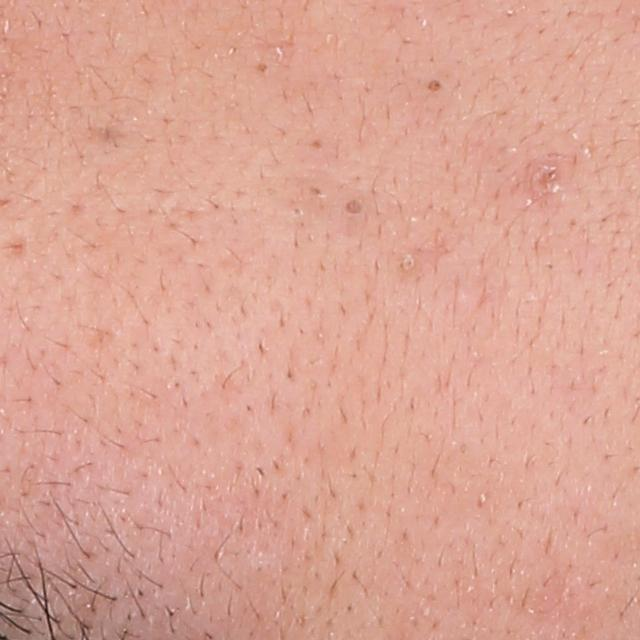comedo: (535, 165, 557, 189), (341, 197, 366, 217), (424, 76, 444, 96), (400, 253, 417, 276)
